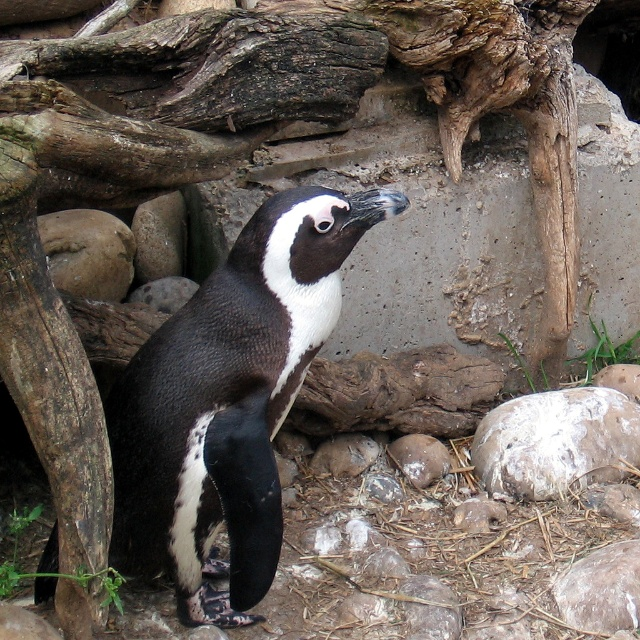Penguin: (34, 185, 411, 628)
